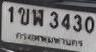letters: (18, 7, 29, 25), (32, 9, 43, 27), (49, 11, 59, 29), (73, 14, 82, 32), (61, 13, 70, 30), (85, 16, 94, 33), (8, 6, 14, 23)
province: (15, 33, 82, 47)
